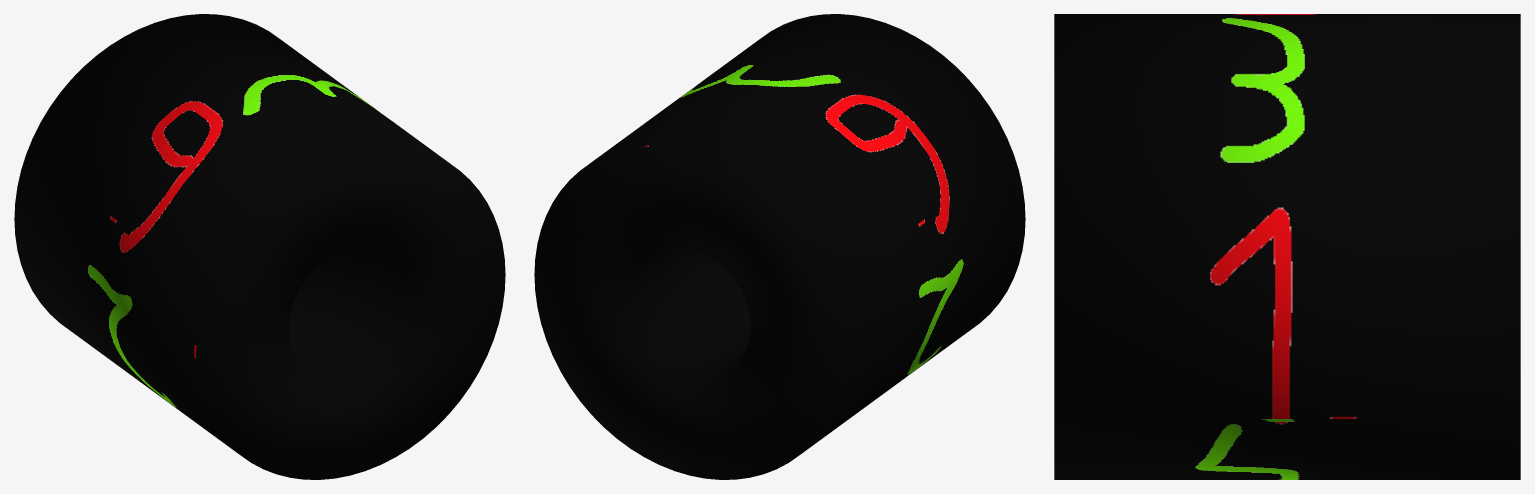
The model's file is toilet_paper_mystery_2.glb.
3 renders of one model, left to right at view 1: azimuth 30°, elevation 25°; view 2: azimuth 150°, elevation 25°; view 3: azimuth 270°, elevation 25°, orthographic. The views are drawn at different scales.
Visible parts, largest first — view 1: Cylinder; view 2: Cylinder; view 3: Cylinder.
Part boxes in pixels (<box>): Cylinder: <box>14,14,505,479</box>; Cylinder: <box>534,14,1025,479</box>; Cylinder: <box>1054,14,1520,479</box>.
Bounding box in the file's own units: 0.7045 × 0.7045 × 0.7045.
Materials: 1 (1 with a texture image).
